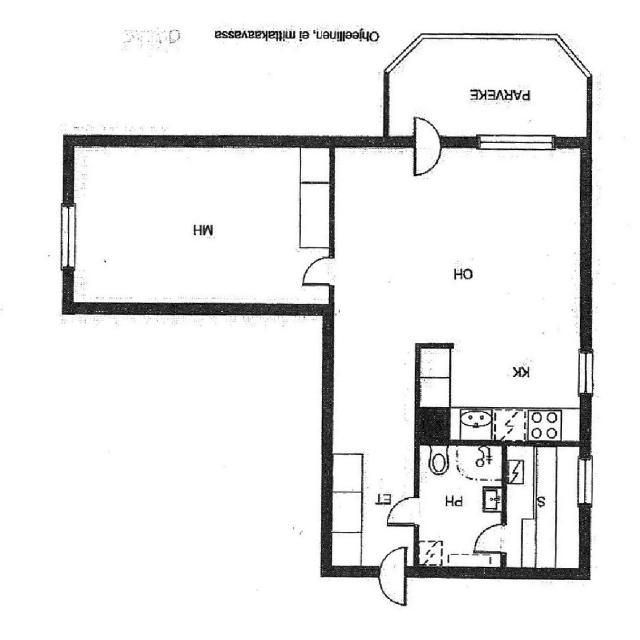door: (67, 152, 324, 312), (409, 112, 445, 181), (376, 542, 408, 609), (295, 251, 338, 290), (382, 495, 422, 530), (469, 520, 508, 555)
window: (473, 132, 558, 159), (55, 199, 81, 273), (574, 448, 596, 512), (574, 347, 600, 399)
zone: (328, 149, 591, 442), (70, 142, 328, 310), (414, 441, 506, 568), (505, 442, 586, 575)
